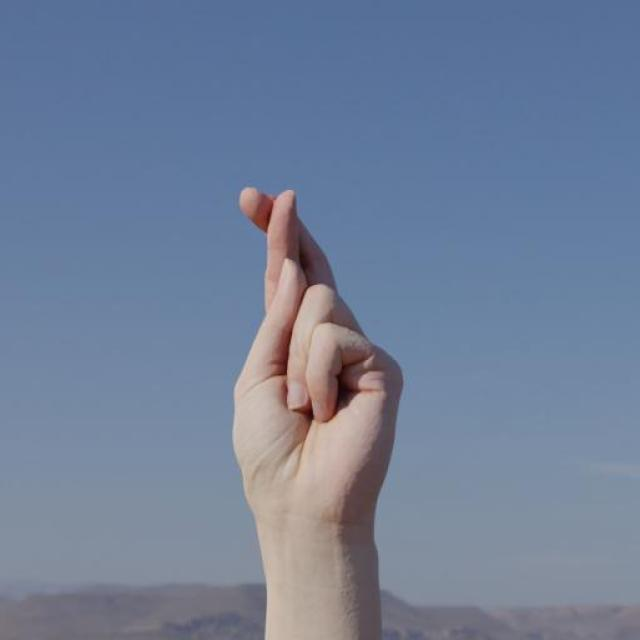R: (219, 185, 410, 543)
